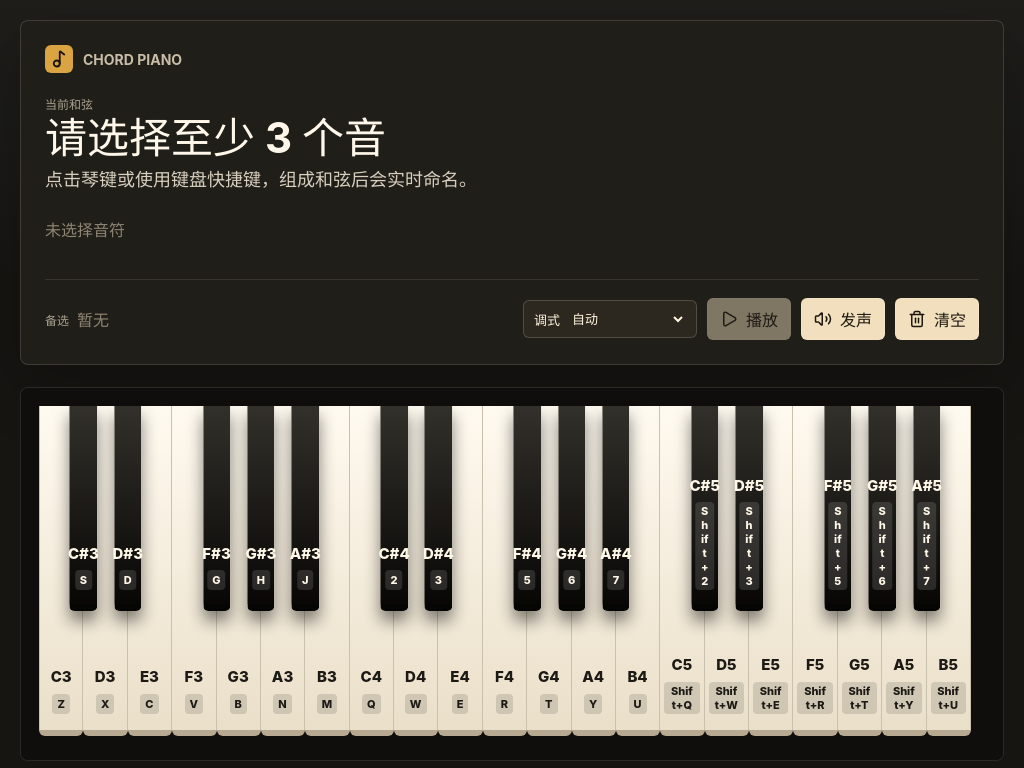
Scenario: App › enables chord playback only when notes are selected
Expected: the button "播放" is disabled, left=707, top=298, right=791, bottom=340
Click the button with test id "note-C3". click: point(61, 571)
box: left=39, top=406, right=83, bottom=736
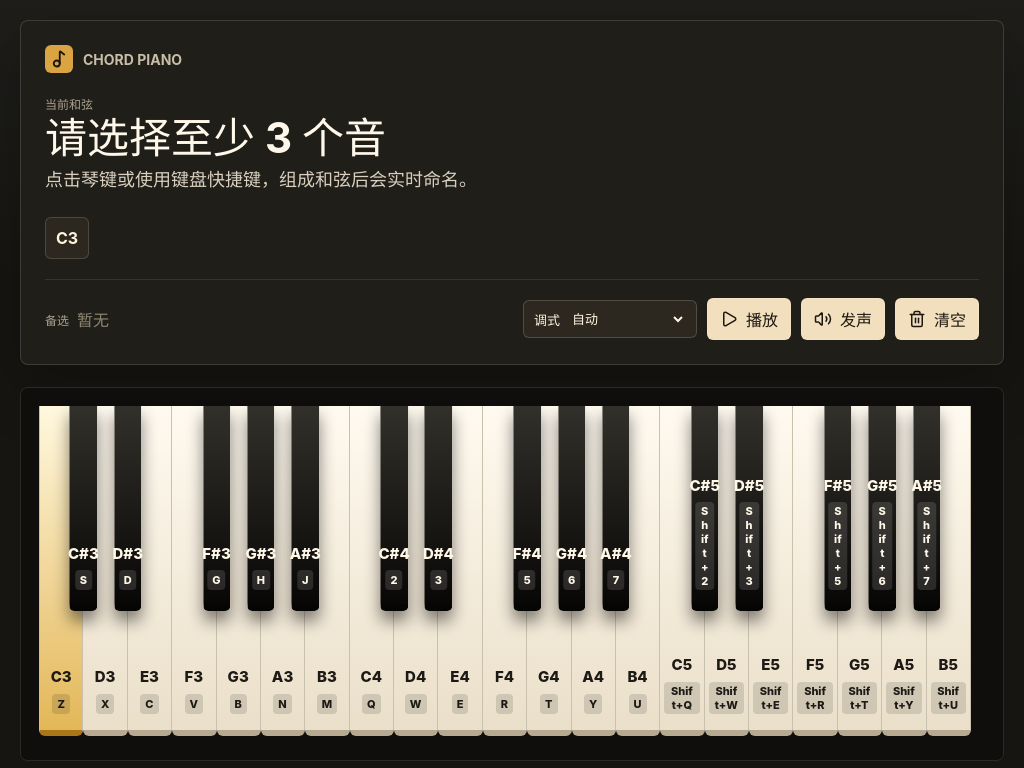
Result: the button "播放" is enabled at left=707, top=298, right=791, bottom=340
